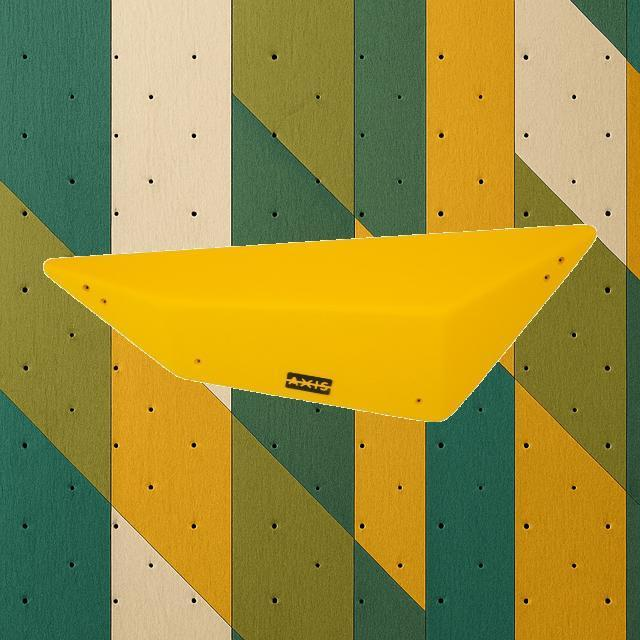Volume: (43, 224, 607, 423)
